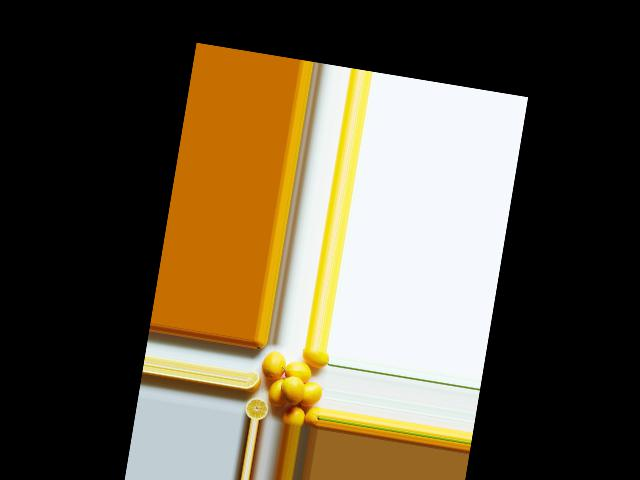lemon: (282, 404, 306, 426)
